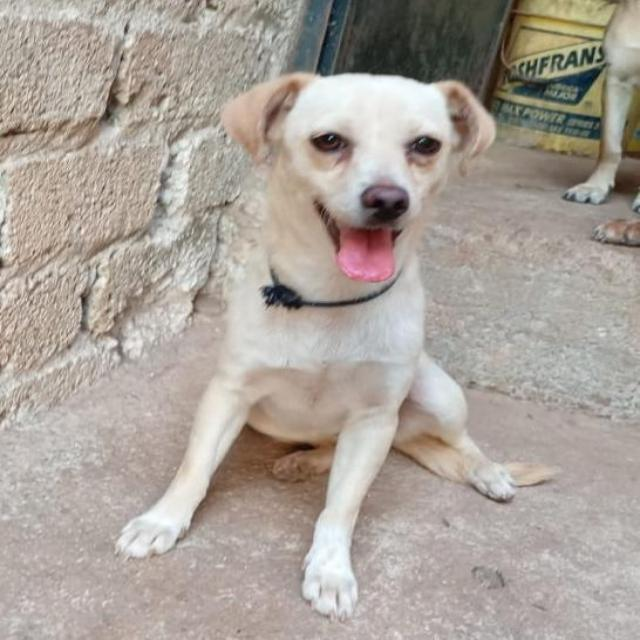chihuahua_dog: (207, 58, 499, 302)
